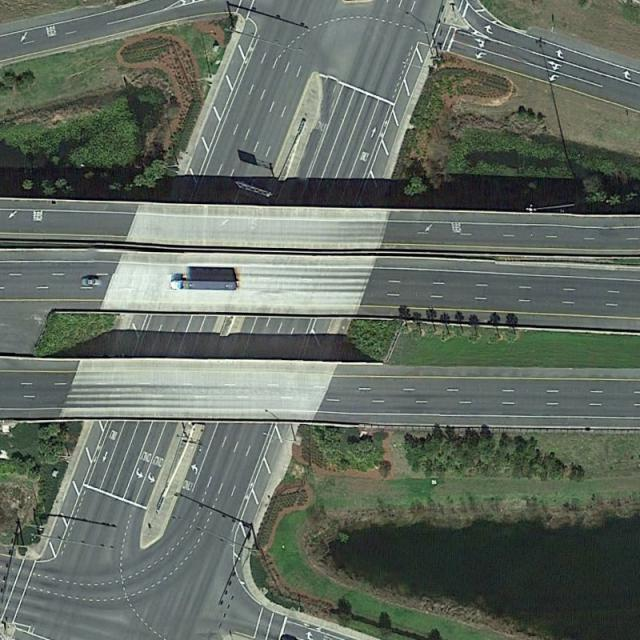vehicle: (169, 278, 237, 291), (80, 278, 100, 285)
